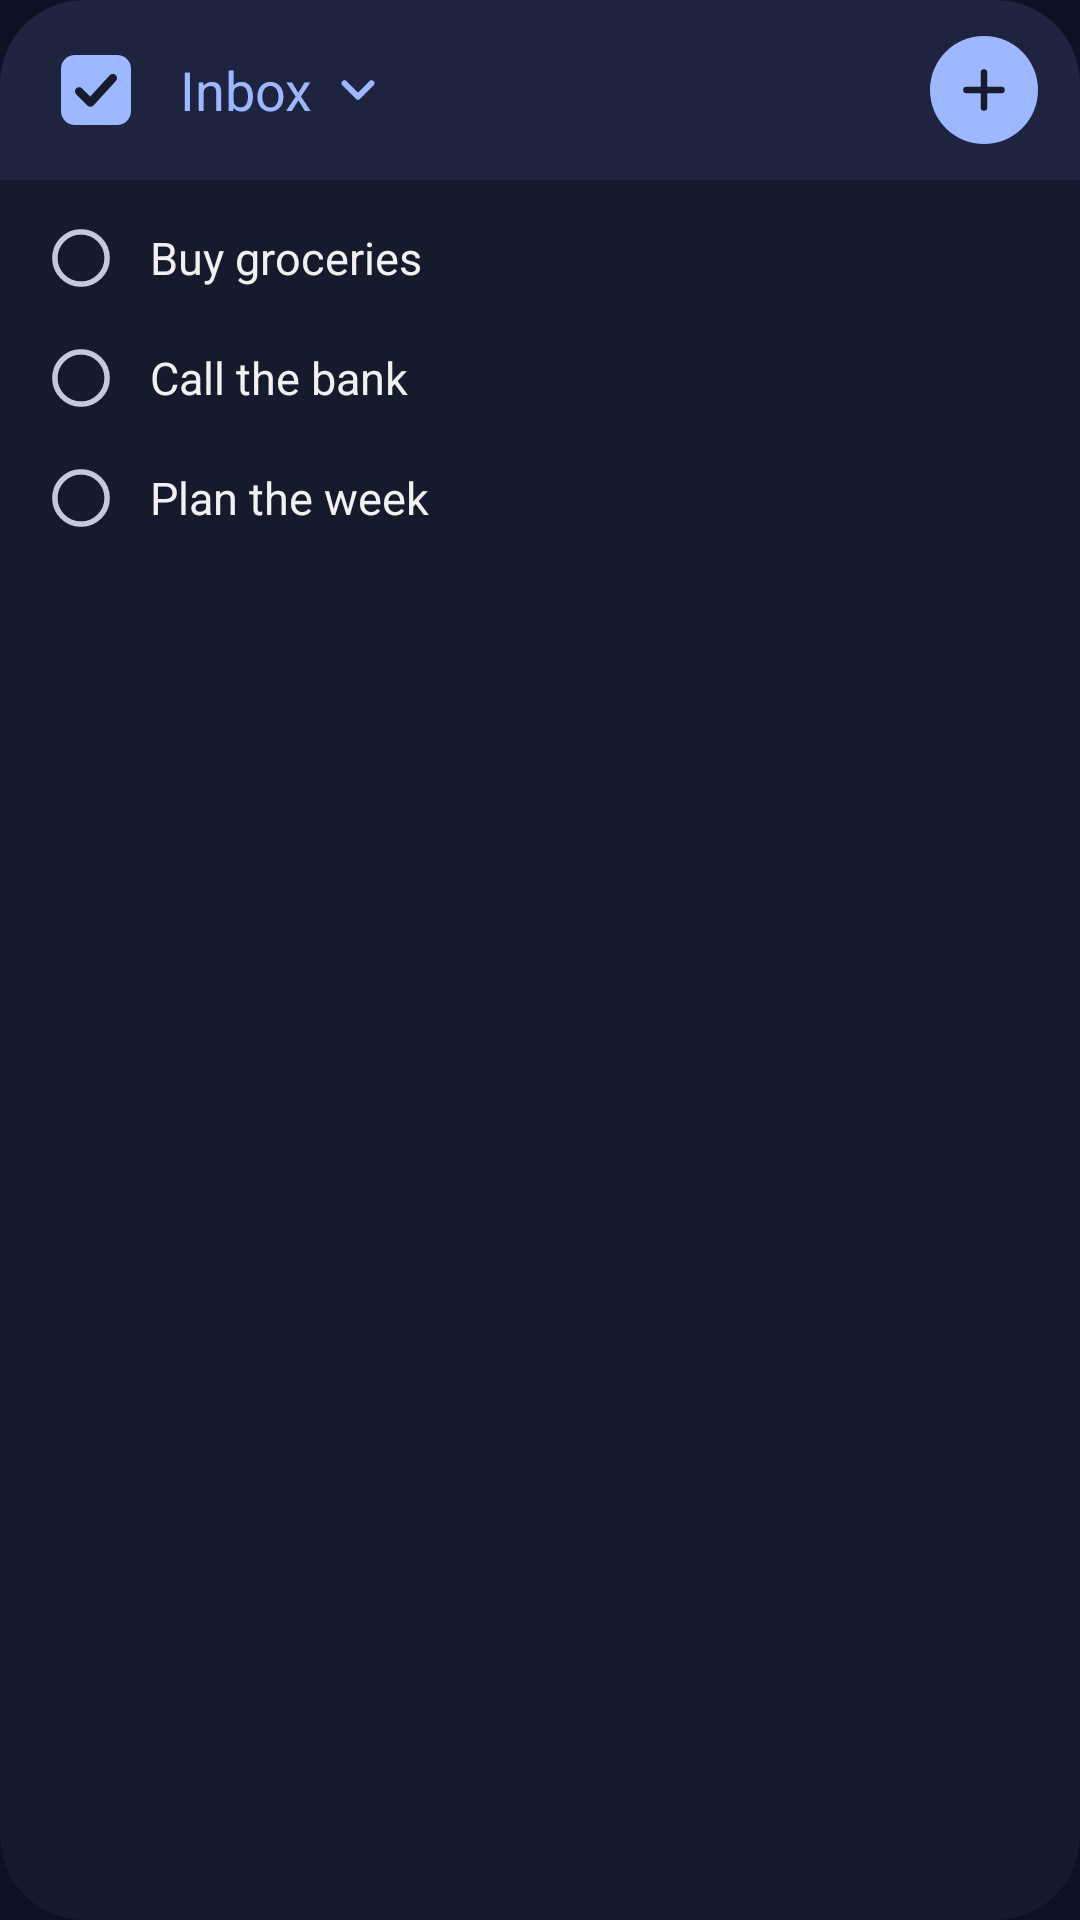

Where icons sit on this 1080 × 1920 app screen, as box(x1, y1, x2, y2):
Add task: box(930, 36, 1038, 144)
Open Daymark: box(61, 55, 131, 125)
widget check off: box(52, 229, 110, 287), box(52, 349, 110, 407), box(52, 469, 110, 527)
widget chevron: box(341, 80, 375, 100)
